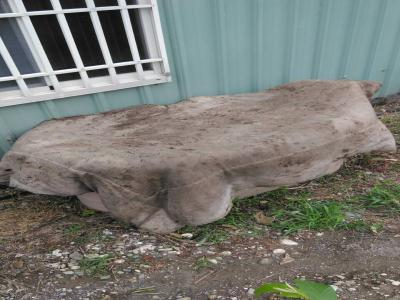plastic_bag: (11, 78, 377, 171)
